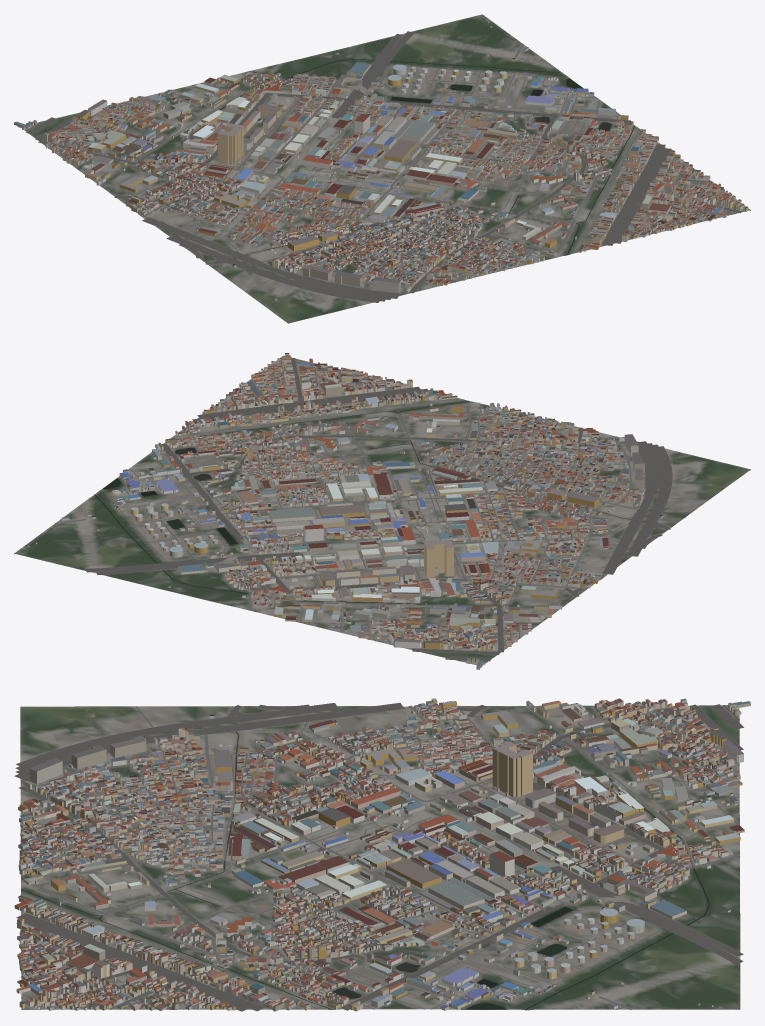
3 views of the same model, one above another, from view 1: azimuth 30°, elevation 25°; view 2: azimuth 150°, elevation 25°; view 3: azimuth 270°, elevation 25° (orthographic). The views are drawn at different scales.
Parts seen in each view (by area): view 1: buildings, ground, roads, water; view 2: buildings, ground, roads, water; view 3: buildings, ground, roads, water.
Part boxes in pixels (<box>): buildings: <box>14,21,748,300</box>; ground: <box>19,14,750,323</box>; roads: <box>25,31,741,302</box>; water: <box>139,59,694,255</box>; buildings: <box>28,353,710,669</box>; ground: <box>14,355,750,665</box>; roads: <box>54,358,707,662</box>; water: <box>94,400,631,604</box>; buildings: <box>14,698,750,1011</box>; ground: <box>20,705,740,1010</box>; roads: <box>14,703,743,1011</box>; water: <box>21,706,709,1009</box>.
Bounding box in the file's own units: 1424 × 87.22 × 1436.
